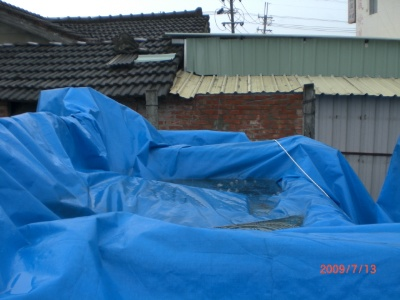plastic_bag: (1, 84, 400, 300)
